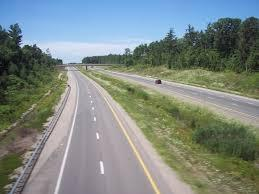field: (79, 67, 258, 192)
road: (22, 67, 191, 193), (94, 67, 258, 128)
